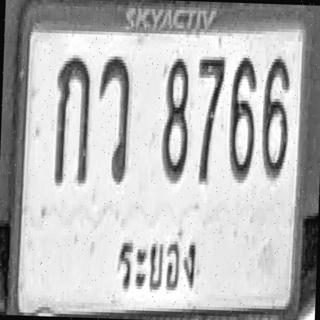A01: (54, 54, 91, 184)
A37: (96, 52, 130, 182)
N06: (228, 54, 257, 180), (261, 55, 289, 178)
N07: (195, 53, 225, 182)
N08: (160, 55, 190, 181)
P53: (113, 224, 200, 296)
